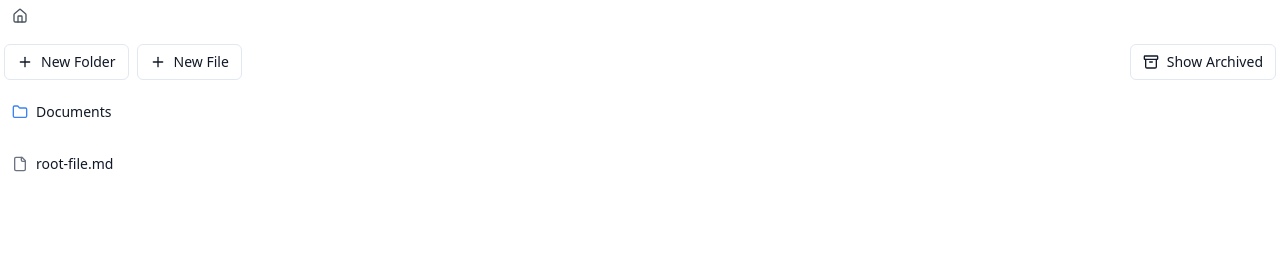
Test: DocsFileSystem › Navigation › should select and display file content
Click the text "root-file.md".
click(75, 164)  # box [36, 154, 113, 174]
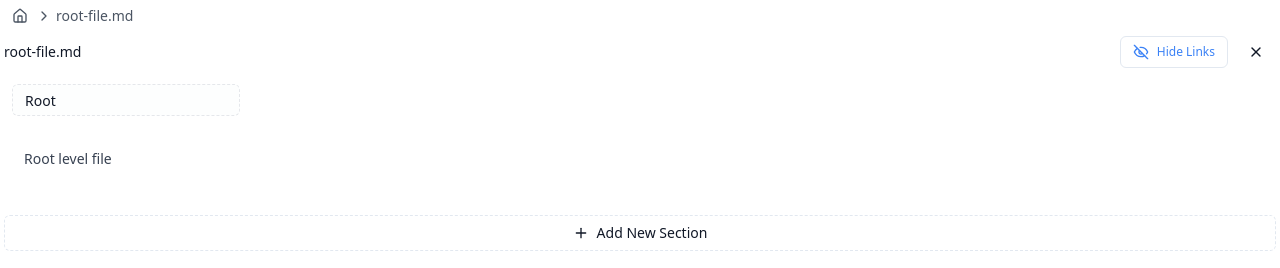
Check: the field showing "Root" is shown, box [12, 84, 240, 116]
